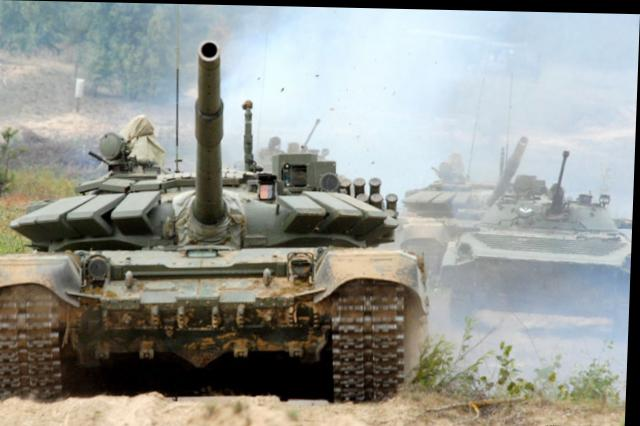tank: (0, 169, 420, 394), (456, 189, 634, 316)
